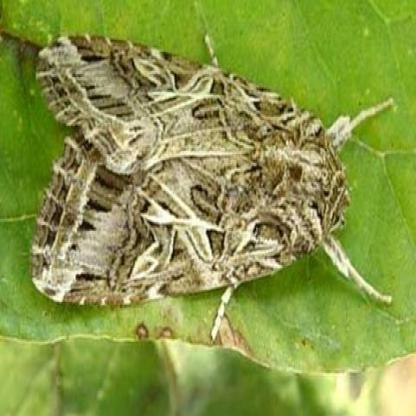armyworm: (32, 25, 398, 328)
